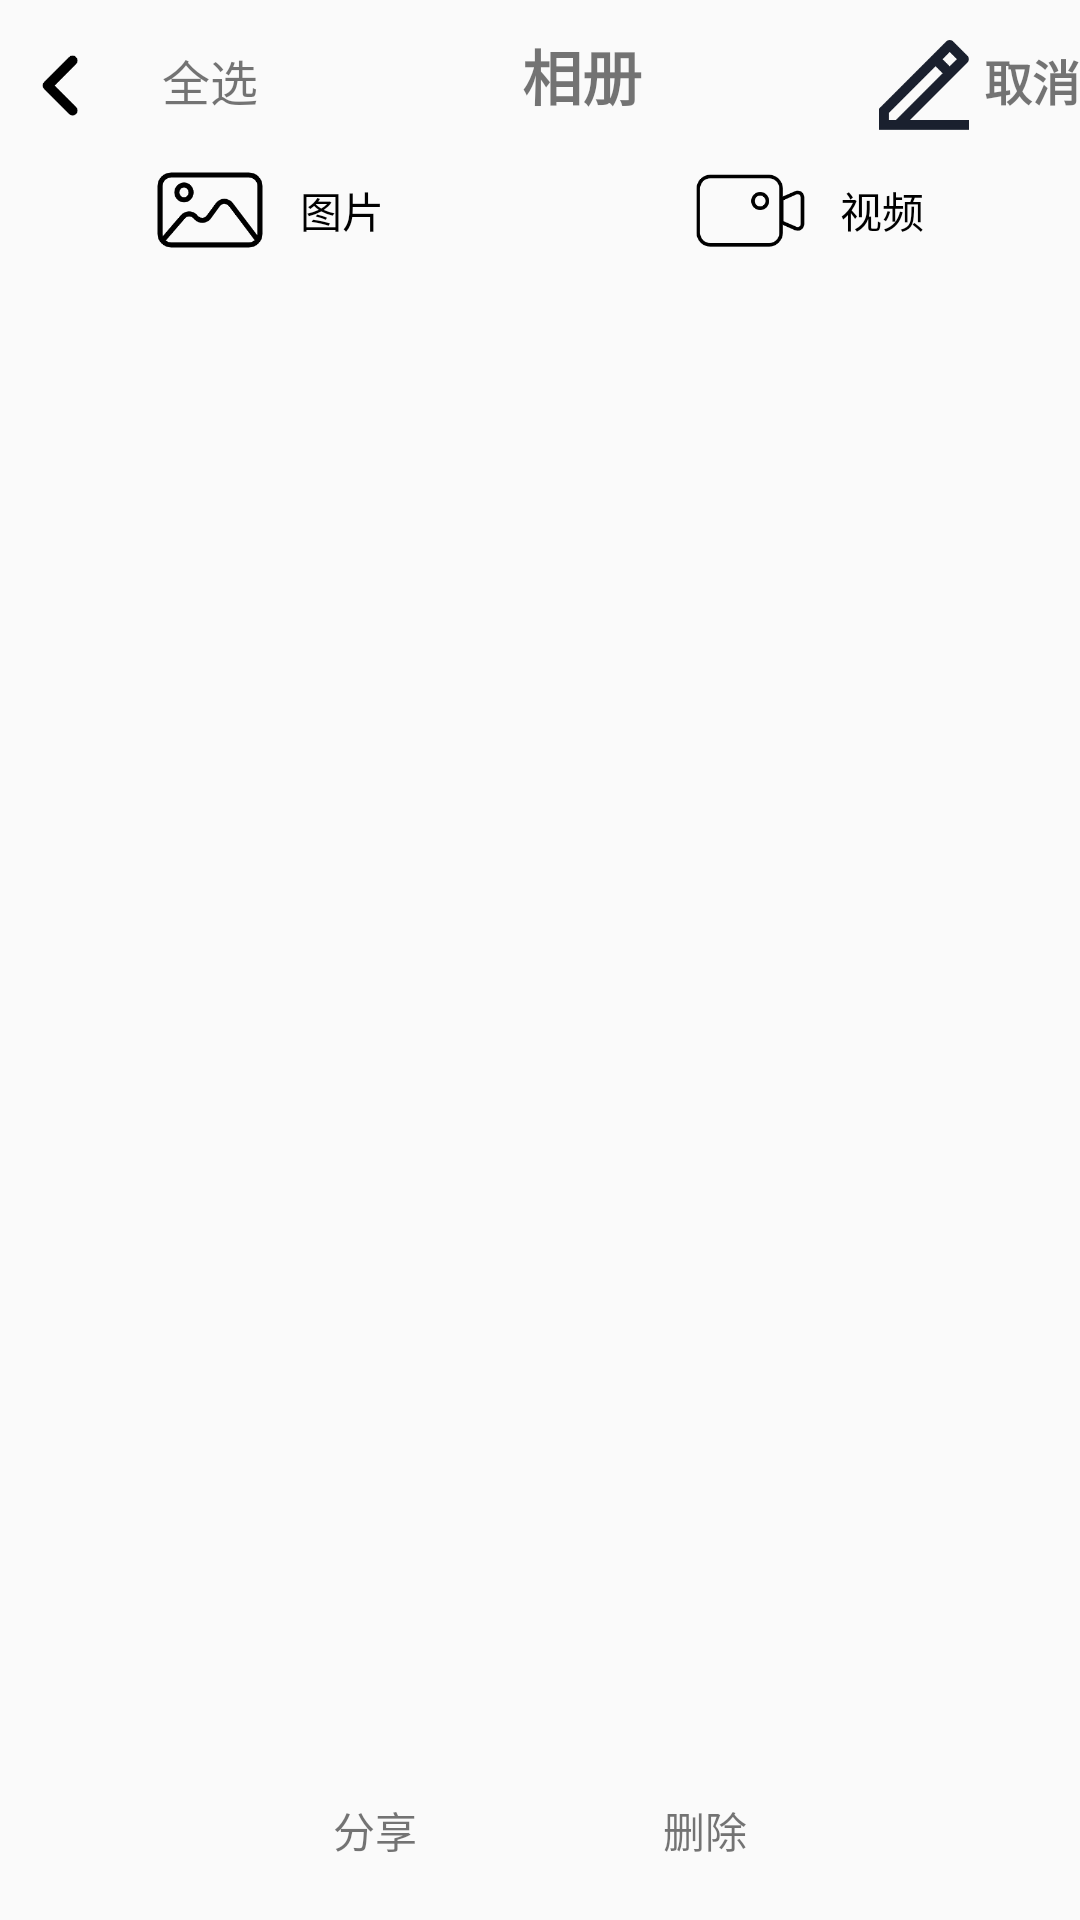

Icon bounding boxes for this 1080 x 1920 phone screenshot, format box(x1, y1, x2, y2):
arrow left: box(42, 55, 78, 116)
video: box(696, 174, 805, 247)
